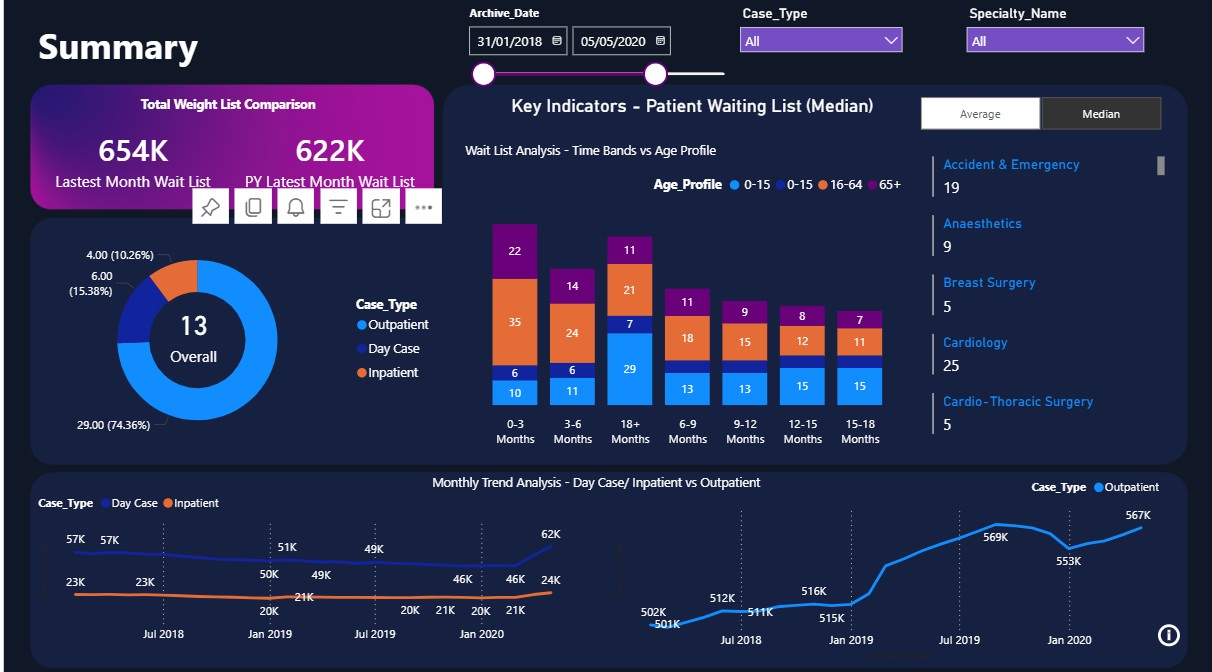

The dashboard page shown, as its layout file describes it:
{"tool":"powerbi","page":{"name":"Summary","canvas":[1280,720],"ordinal":0},"visuals":[{"type":"cardVisual","fields":{"Data":["All_Data.Lastest Month Wait List"]},"box":[16,112,240,112],"z":0},{"type":"cardVisual","fields":{"Data":["All_Data.PY Latest Month Wait List"]},"box":[224,112,240,112],"z":1000},{"type":"slicer","fields":{"Values":["Calculation Method.Calc Method"]},"box":[944,96,304,48],"z":2000},{"type":"donutChart","fields":{"Category":["All_Data.Case_Type"],"Y":["All_Data.Avg/Med Wait List"]},"box":[32,240,432,240],"z":3000},{"type":"columnChart","fields":{"Y":["All_Data.Avg/Med Wait List"],"Category":["All_Data.Time_Bands"],"Series":["All_Data.Age_Profile"]},"box":[480,176,480,304],"z":4000},{"type":"multiRowCard","fields":{"Values":["All_Data.Specialty_Name","All_Data.Avg/Med Wait List"]},"box":[976,160,256,320],"z":5000},{"type":"card","fields":{"Values":["All_Data.NoDataLeft"]},"box":[176,560,288,112],"z":6000},{"type":"lineChart","fields":{"Category":["All_Data.Archive_Date"],"Y":["Sum(All_Data.Total)"],"Series":["All_Data.Case_Type"]},"box":[32,512,576,176],"z":7000},{"type":"card","fields":{"Values":["All_Data.NoDataRight"]},"box":[784,560,288,112],"z":8000},{"type":"lineChart","fields":{"Category":["All_Data.Archive_Date"],"Y":["Sum(All_Data.Total)"],"Series":["All_Data.Case_Type"]},"box":[640,496,592,208],"z":9000},{"type":"slicer","fields":{"Values":["All_Data.Archive_Date"]},"box":[480,0,304,95],"z":10000},{"type":"slicer","fields":{"Values":["All_Data.Case_Type"]},"box":[768,0,192,64],"z":11000},{"type":"slicer","fields":{"Values":["All_Data.Specialty_Name"]},"box":[1008,0,208,64],"z":12000},{"type":"textbox","box":[96,96,288,32],"z":13000},{"type":"textbox","box":[32,16,368,64],"z":14000},{"type":"textbox","box":[480,128,416,48],"z":15000},{"type":"textbox","box":[448,496,368,48],"z":16000},{"type":"card","fields":{"Values":["All_Data.Avg/Med Wait List"]},"box":[112,272,176,160],"z":17000},{"type":"card","fields":{"Values":["All_Data.Dynamic Title"]},"box":[496,96,464,32],"z":18000},{"type":"actionButton","box":[1216,656,48,32],"z":19000}]}

Visuals, with their boxes in screenshot pixels (x1, y1, x2, y2), scaled from the page's 1280x720 canvas onto the 1212x672 screenshot:
cardVisual - All_Data.Lastest Month Wait List: box(15, 105, 242, 209)
cardVisual - All_Data.PY Latest Month Wait List: box(212, 105, 439, 209)
slicer - Calculation Method.Calc Method: box(894, 90, 1182, 134)
donutChart - All_Data.Case_Type x All_Data.Avg/Med Wait List: box(30, 224, 439, 448)
columnChart - All_Data.Avg/Med Wait List x All_Data.Time_Bands: box(454, 164, 909, 448)
multiRowCard - All_Data.Specialty_Name x All_Data.Avg/Med Wait List: box(924, 149, 1167, 448)
card - All_Data.NoDataLeft: box(167, 523, 439, 627)
lineChart - All_Data.Archive_Date x Sum(All_Data.Total): box(30, 478, 576, 642)
card - All_Data.NoDataRight: box(742, 523, 1015, 627)
lineChart - All_Data.Archive_Date x Sum(All_Data.Total): box(606, 463, 1167, 657)
slicer - All_Data.Archive_Date: box(454, 0, 742, 89)
slicer - All_Data.Case_Type: box(727, 0, 909, 60)
slicer - All_Data.Specialty_Name: box(954, 0, 1151, 60)
textbox: box(91, 90, 364, 119)
textbox: box(30, 15, 379, 75)
textbox: box(454, 119, 848, 164)
textbox: box(424, 463, 773, 508)
card - All_Data.Avg/Med Wait List: box(106, 254, 273, 403)
card - All_Data.Dynamic Title: box(470, 90, 909, 119)
actionButton: box(1151, 612, 1197, 642)
